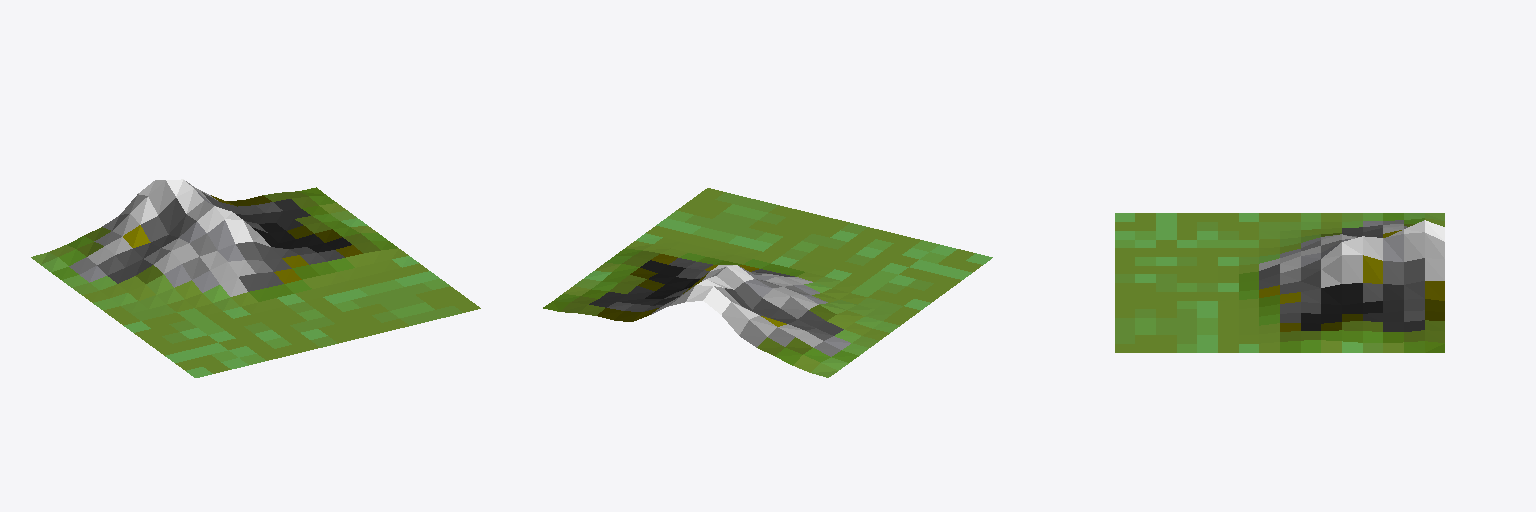
3 views of the same model, side by side, from view 1: azimuth 30°, elevation 25°; view 2: azimuth 150°, elevation 25°; view 3: azimuth 270°, elevation 25° (orthographic).
Visible parts, largest first — view 1: mountains1; view 2: mountains1; view 3: mountains1.
Boxes of the visible parts, box(x1,y1,x2,y2) form: mountains1: box(31, 179, 480, 377); mountains1: box(543, 188, 992, 377); mountains1: box(1115, 213, 1444, 352).
Size of the model in its own units: 1 by 0.1813 by 1.
1 materials, 1 textured.